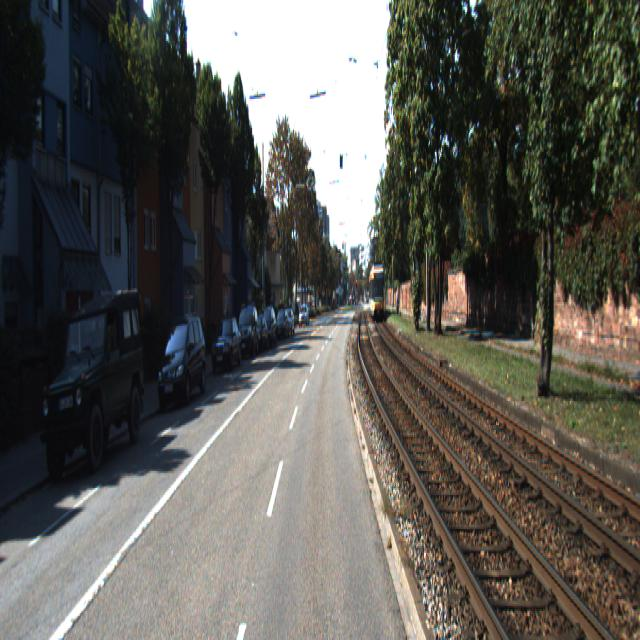Car: (41, 282, 147, 484), (156, 313, 208, 414), (210, 314, 242, 374), (236, 302, 259, 360), (368, 266, 386, 324)
